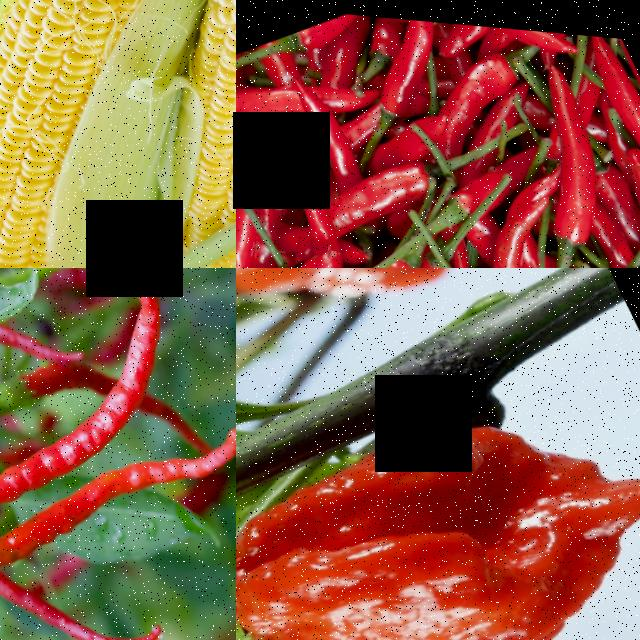chilli: (488, 55, 640, 252), (0, 438, 180, 590), (0, 394, 142, 540), (311, 133, 465, 241), (282, 63, 365, 184), (270, 225, 444, 268), (236, 56, 309, 157), (236, 237, 355, 268)
corn: (0, 19, 166, 268), (95, 104, 236, 268), (0, 0, 236, 96), (132, 0, 236, 183)
